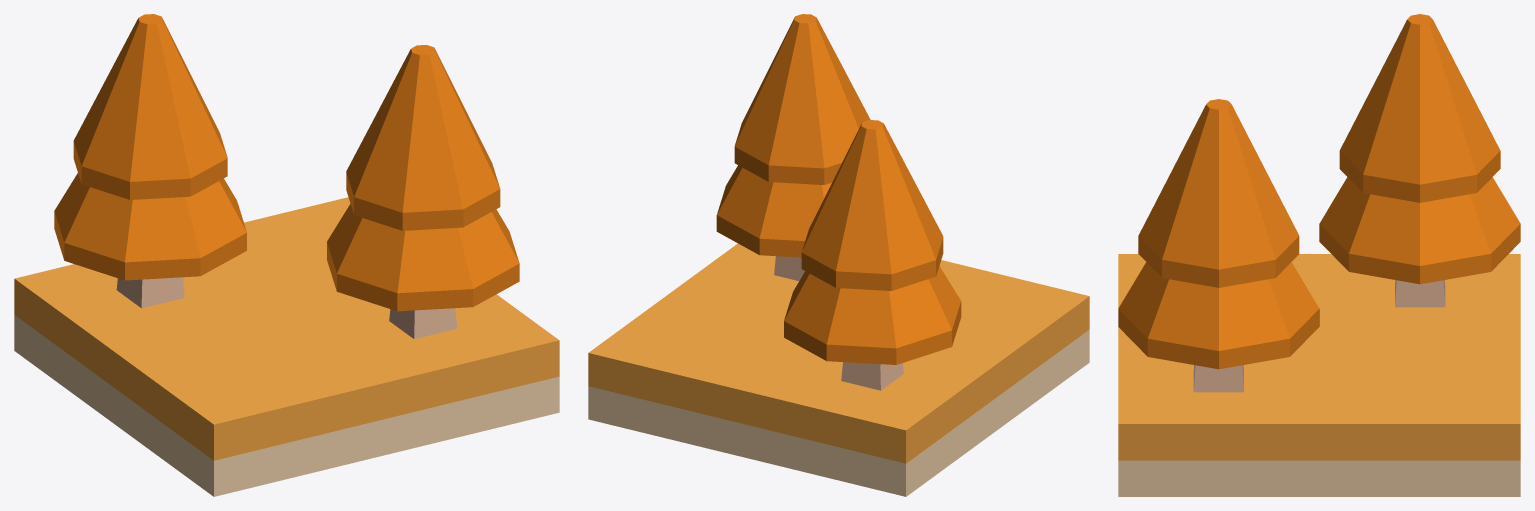
File: autumn_tree_Double.fbx
3 renders of one model, left to right at view 1: azimuth 30°, elevation 25°; view 2: azimuth 150°, elevation 25°; view 3: azimuth 270°, elevation 25°, orthographic. The views are drawn at different scales.
Visible parts, largest first — view 1: tile_treeDouble, tree, tree.001; view 2: tile_treeDouble, tree, tree.001; view 3: tile_treeDouble, tree, tree.001.
Part boxes in pixels (<box>): tile_treeDouble: <box>14,197,559,496</box>; tree: <box>54,14,246,308</box>; tree.001: <box>327,45,519,339</box>; tile_treeDouble: <box>588,243,1089,496</box>; tree: <box>784,120,961,390</box>; tree.001: <box>716,14,870,280</box>; tile_treeDouble: <box>1118,254,1520,496</box>; tree: <box>1319,14,1520,307</box>; tree.001: <box>1118,99,1319,392</box>.
Bounding box in the file's own units: 100 × 96 × 100.
